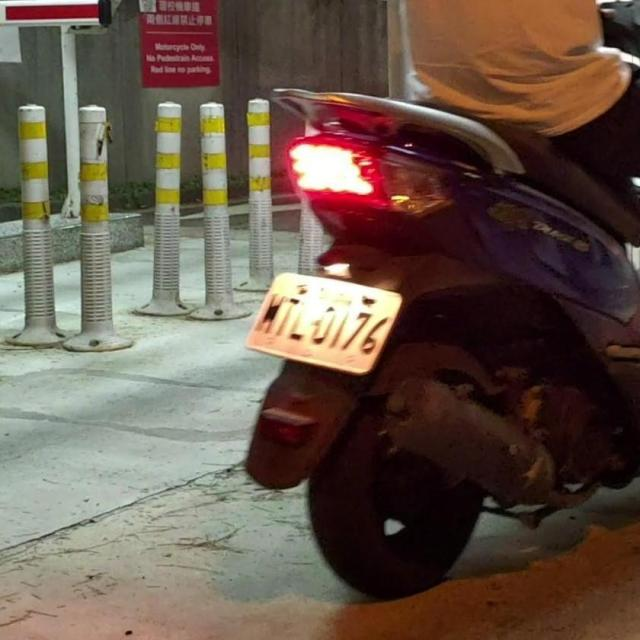W: (242, 261, 408, 377)
